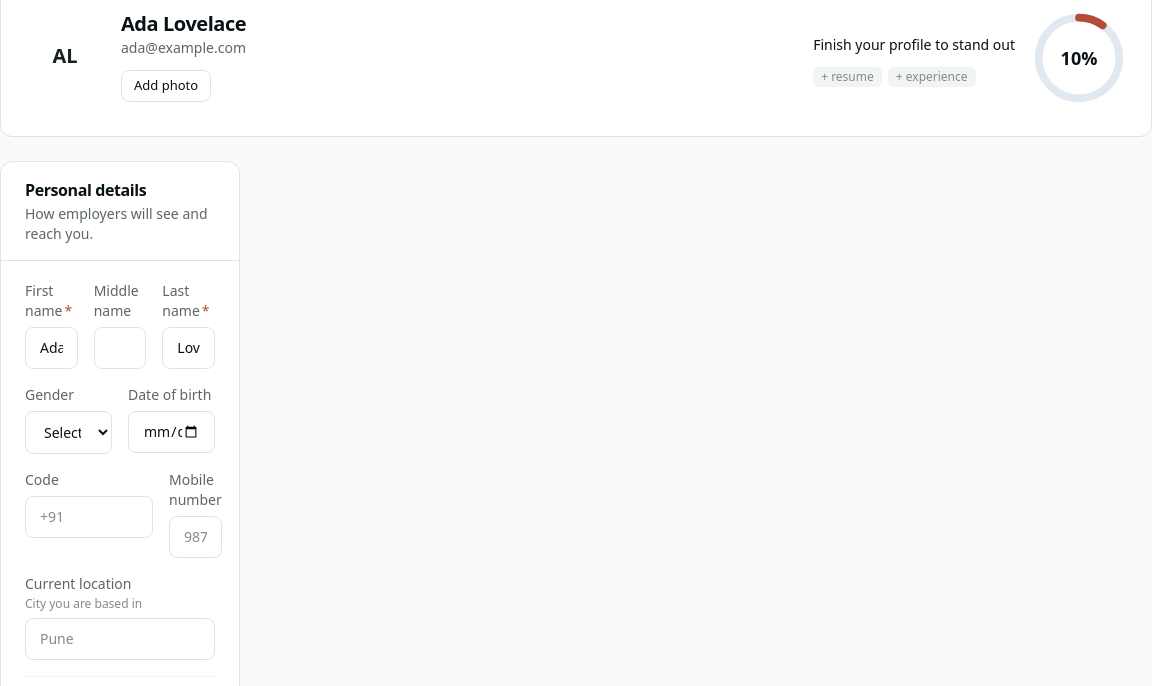
Test case: ProfilePage — candidate › keeps the save button disabled until something changes
Type "P" into the field labelled "Current location" at (120,639), box [25,618,215,660]
(page scrolled)
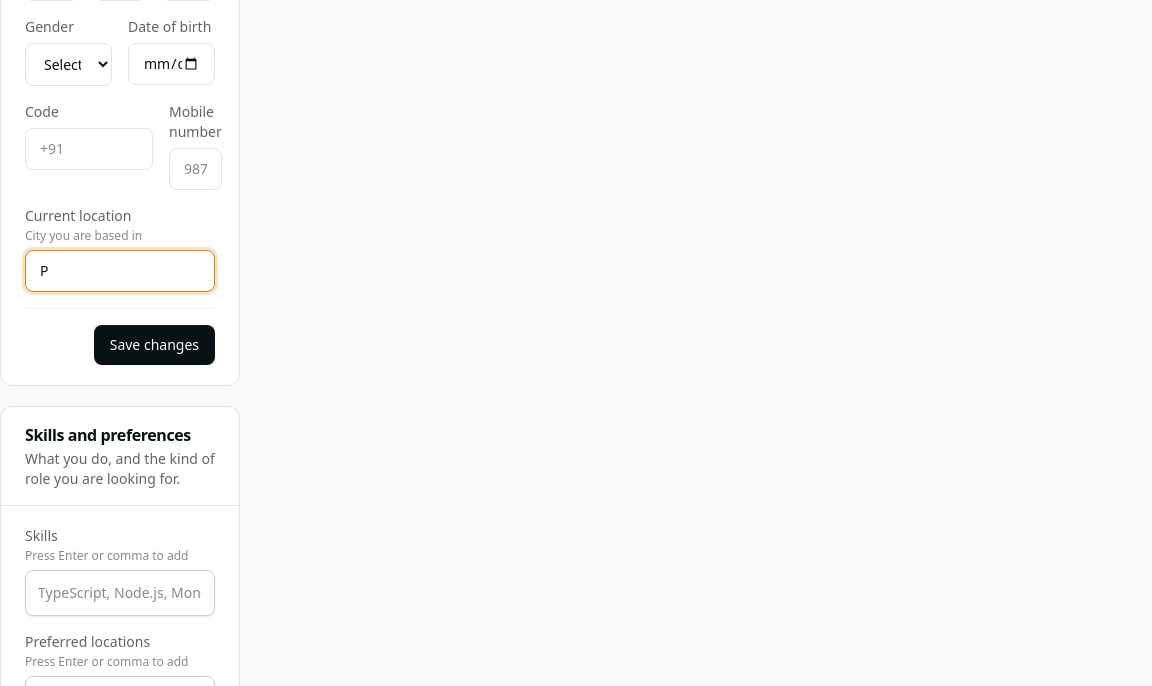
Check: the button "Save changes" is enabled, box [94,325,215,365]
